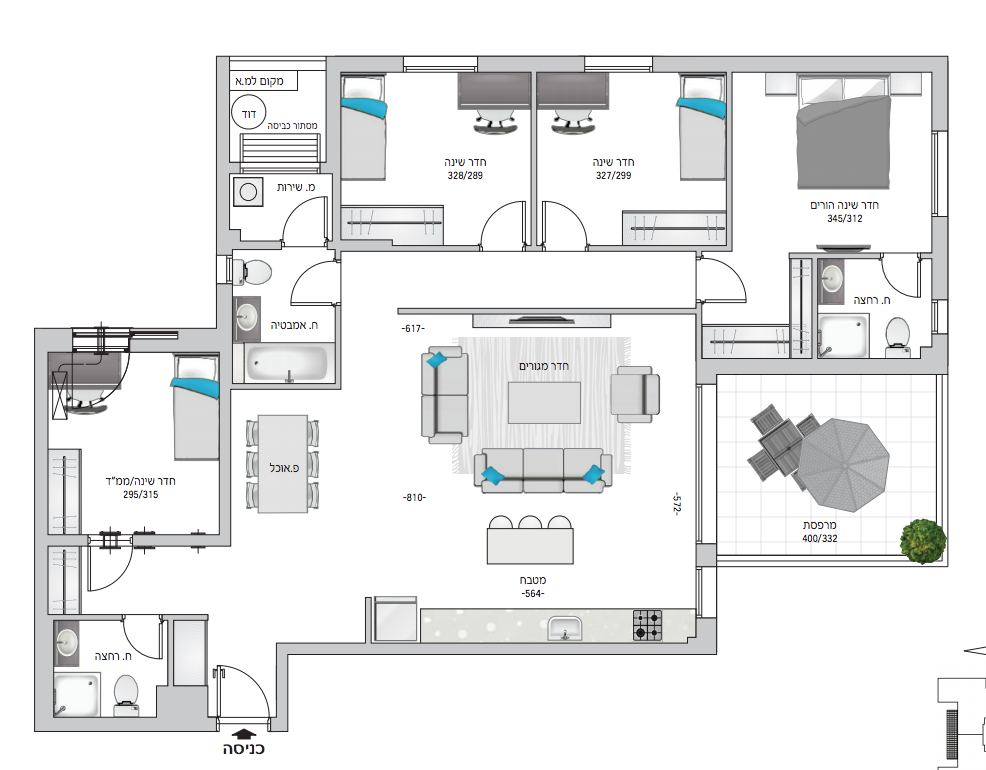door: (212, 661, 270, 712), (706, 253, 754, 309), (476, 195, 527, 241), (286, 260, 330, 313), (84, 553, 139, 595), (871, 261, 927, 301), (279, 193, 327, 239), (114, 627, 166, 667), (541, 196, 587, 241)
wall: (34, 332, 49, 719), (282, 643, 707, 652), (700, 359, 938, 373), (673, 57, 937, 69), (219, 297, 232, 528), (326, 60, 341, 169), (934, 221, 945, 294)
window: (692, 382, 705, 545), (925, 130, 942, 216), (693, 565, 708, 619), (584, 64, 653, 74), (403, 65, 480, 73), (223, 254, 236, 284), (930, 299, 939, 335)
